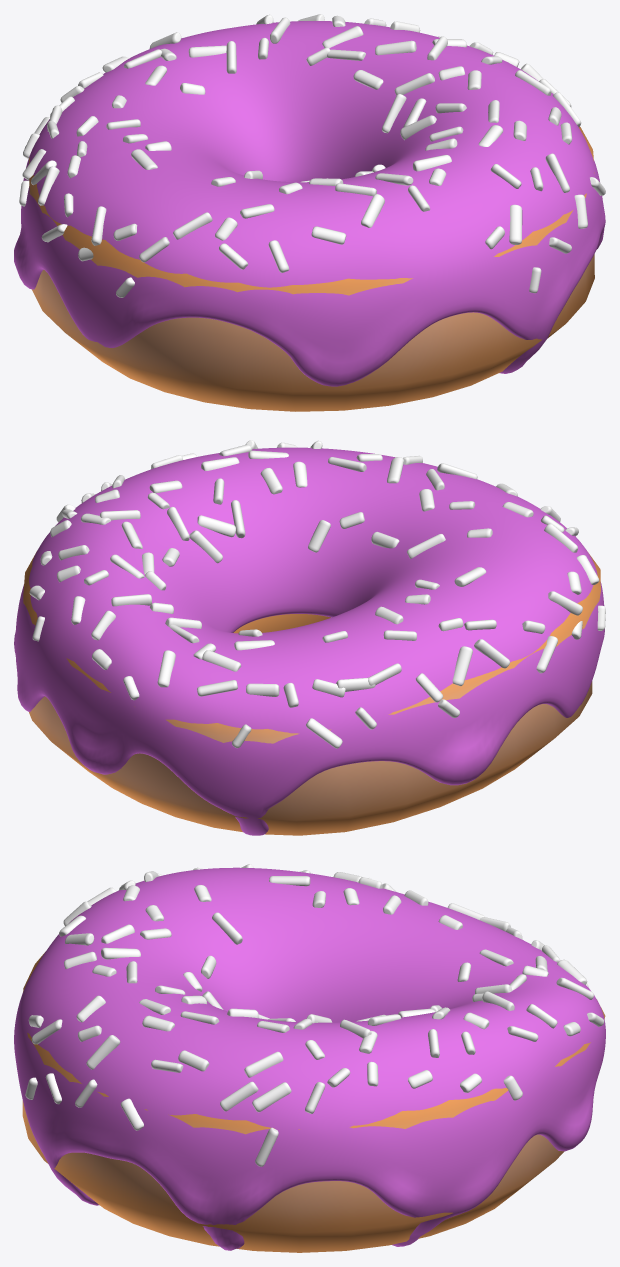
The model's file is test_donut.glb.
3 renders of one model, top to bottom at view 1: azimuth 30°, elevation 25°; view 2: azimuth 150°, elevation 25°; view 3: azimuth 270°, elevation 25°, orthographic. The views are drawn at different scales.
Parts seen in each view (by area): view 1: icing, Donut; view 2: icing, Donut; view 3: icing, Donut, GN Instance.
Part boxes in pixels (box(x1,y1,x2,y2)): icing: box(14, 21, 605, 386); Donut: box(29, 126, 594, 411); icing: box(14, 447, 604, 835); Donut: box(23, 551, 600, 835); icing: box(14, 867, 605, 1250); Donut: box(22, 952, 605, 1252); GN Instance: box(252, 1082, 291, 1112).
Size of the model in its own units: 1.51 by 0.6354 by 1.53.
Materials: 3 (1 with a texture image).
